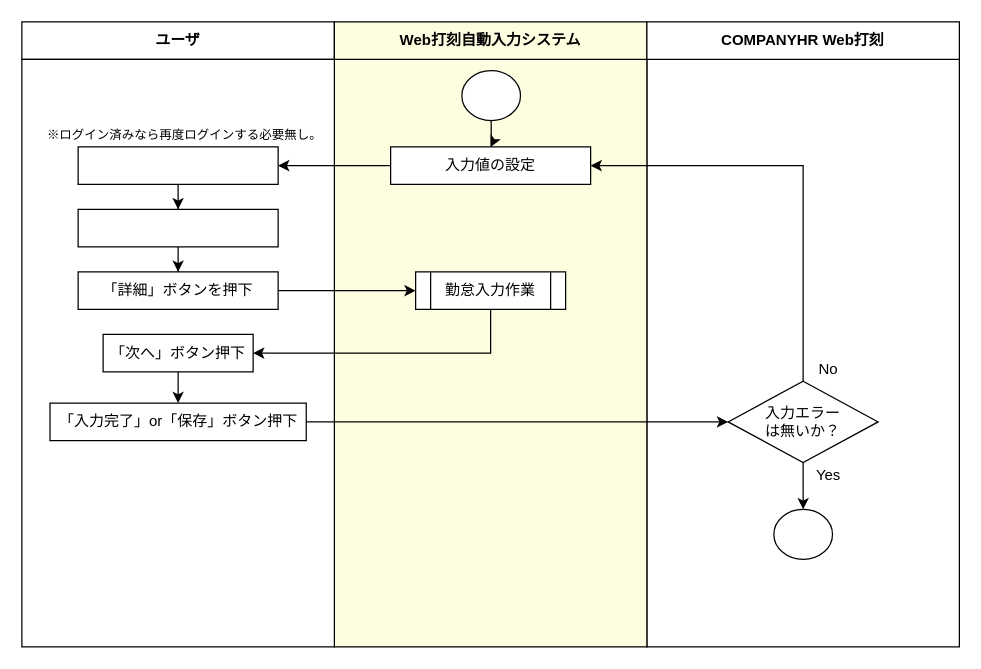
This 981x669 diagram has some shape labels left out. Each missing label, with the centre of its shape:
"COMPANY HRへログイン" belongs at (177,165).
"End" belongs at (802,533).
"Start" belongs at (490,95).
"勤務実績入力リンクを押下" belongs at (177,227).
